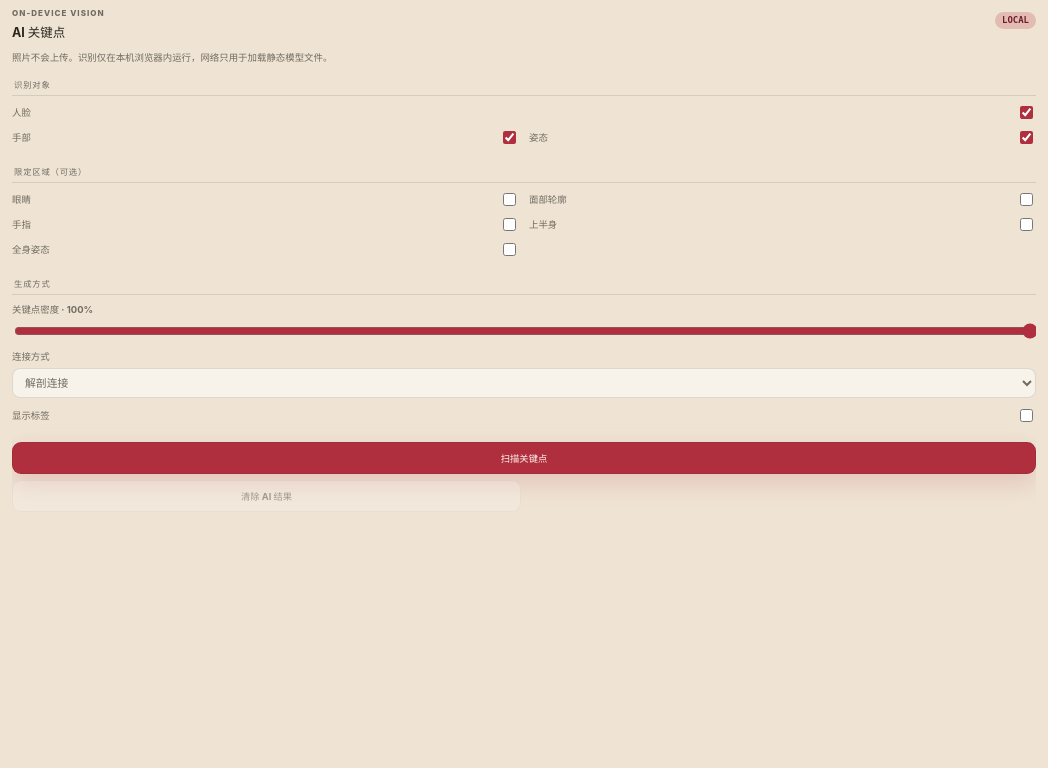
Scenario: AI scan panel › contains layer-conversion failures without adding partial results
Click the button "扫描关键点" at (524, 458), box [12, 442, 1036, 474]
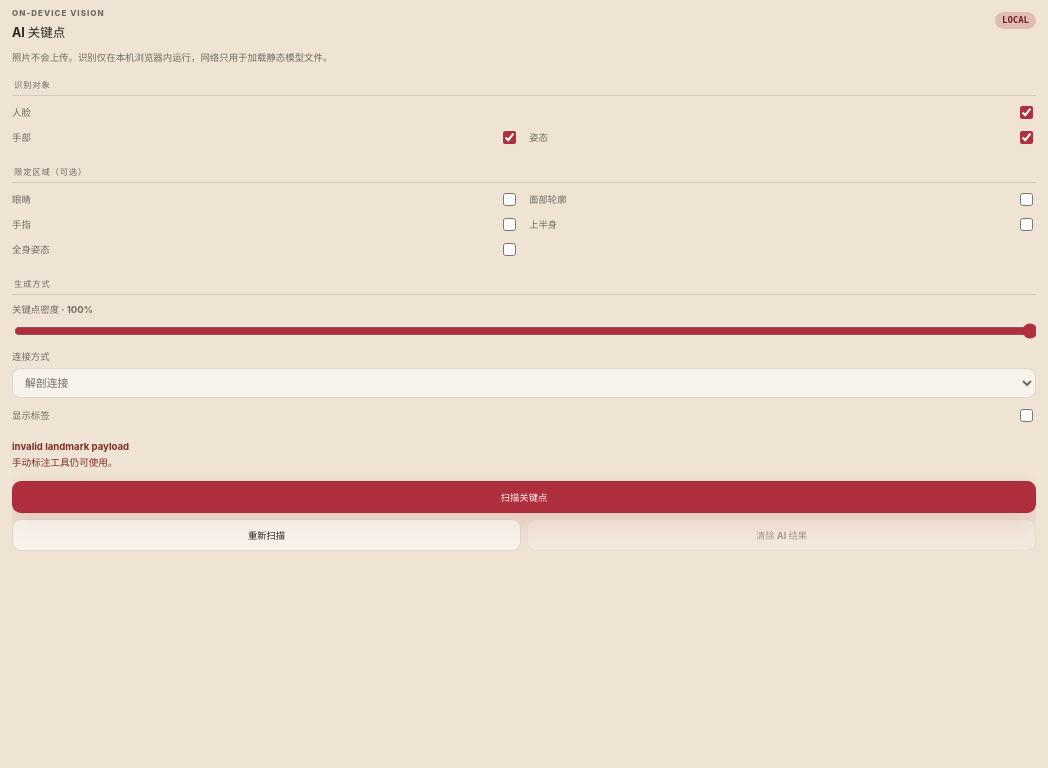
Now the message shows "invalid landmark payload", box [12, 441, 129, 452]
Now the button "重新扫描" is enabled, box [12, 519, 521, 551]
